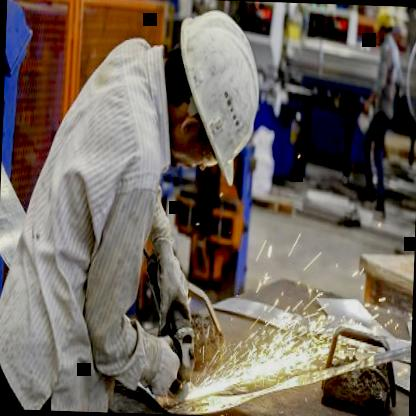helmet: (158, 6, 272, 186)
